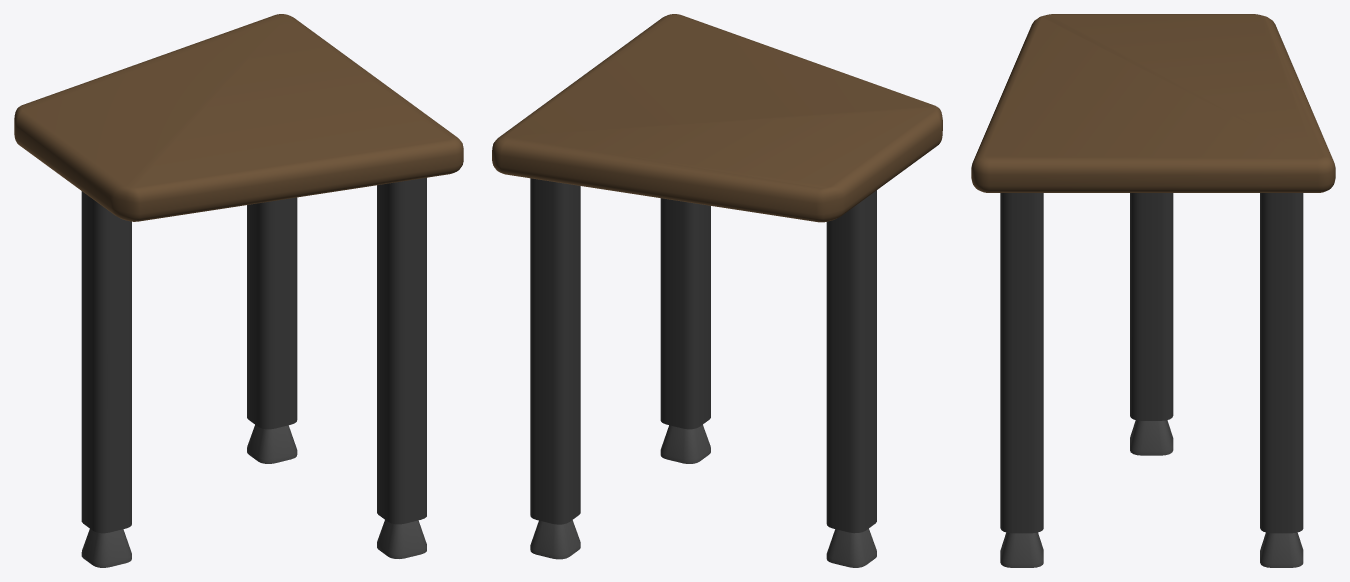
File: TableTrapezoid 1.fbx
3 renders of one model, left to right at view 1: azimuth 30°, elevation 25°; view 2: azimuth 150°, elevation 25°; view 3: azimuth 270°, elevation 25°, orthographic.
Visible parts, largest first — view 1: TableTrapezoid; view 2: TableTrapezoid; view 3: TableTrapezoid.
Boxes of the visible parts, x1,y1,x2,y2 form: TableTrapezoid: (14,14,463,567); TableTrapezoid: (492,14,942,567); TableTrapezoid: (971,14,1335,567).
Size of the model in its own units: 97.66 by 123 by 97.66.
